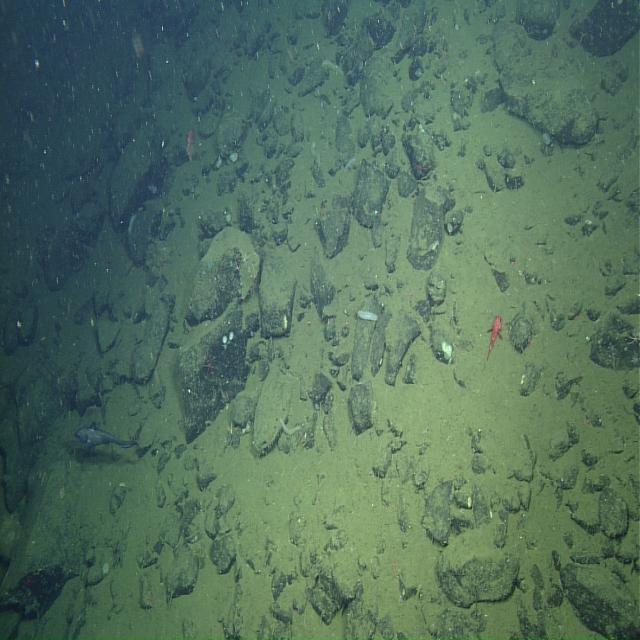Brittle Star: (200, 354, 218, 378)
Not Brittle Star: (72, 418, 140, 458), (482, 311, 506, 365), (320, 54, 344, 80), (183, 125, 197, 161), (355, 306, 380, 326), (280, 416, 304, 436), (126, 207, 138, 237), (100, 559, 110, 578)
